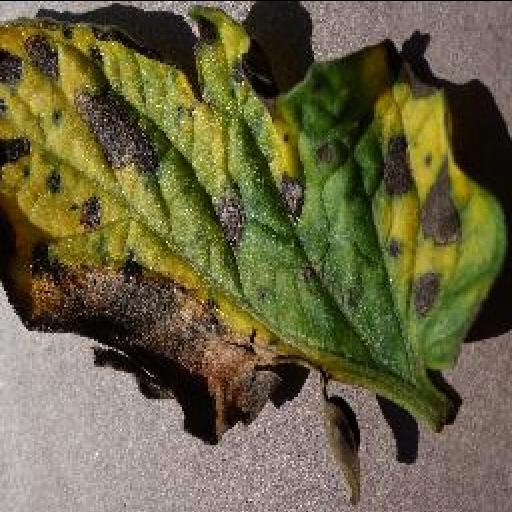disease_tomato: (0, 0, 512, 442)
